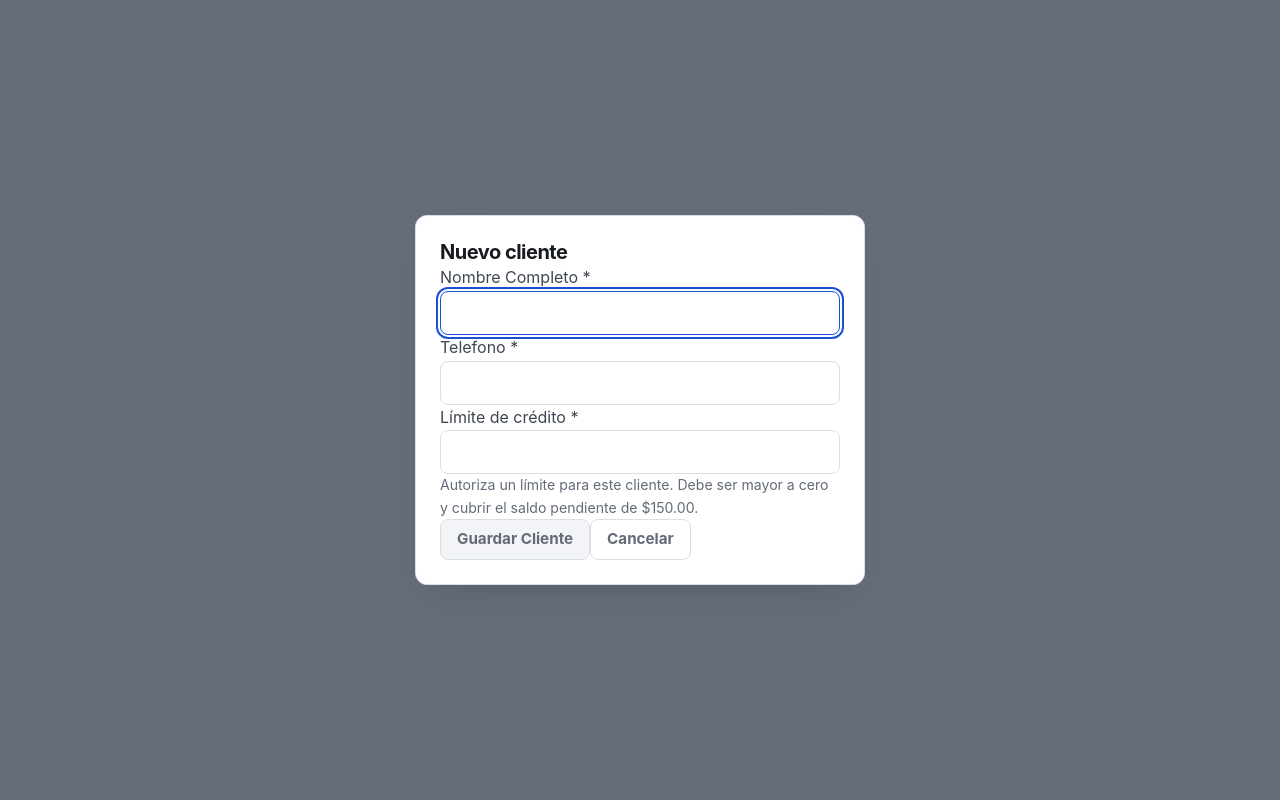
Test: QuickAddCustomerModal › requires an explicit positive credit limit that covers the remaining debt
This screenshot has width=1280, height=800.
Step 1. Type "Cliente QA 3C" into the field labelled "Nombre Completo *" → {"x": 640, "y": 313}, box [440, 291, 840, 335]
Step 2. Type "5551234567" into the field labelled "Telefono *" → {"x": 640, "y": 383}, box [440, 361, 840, 405]
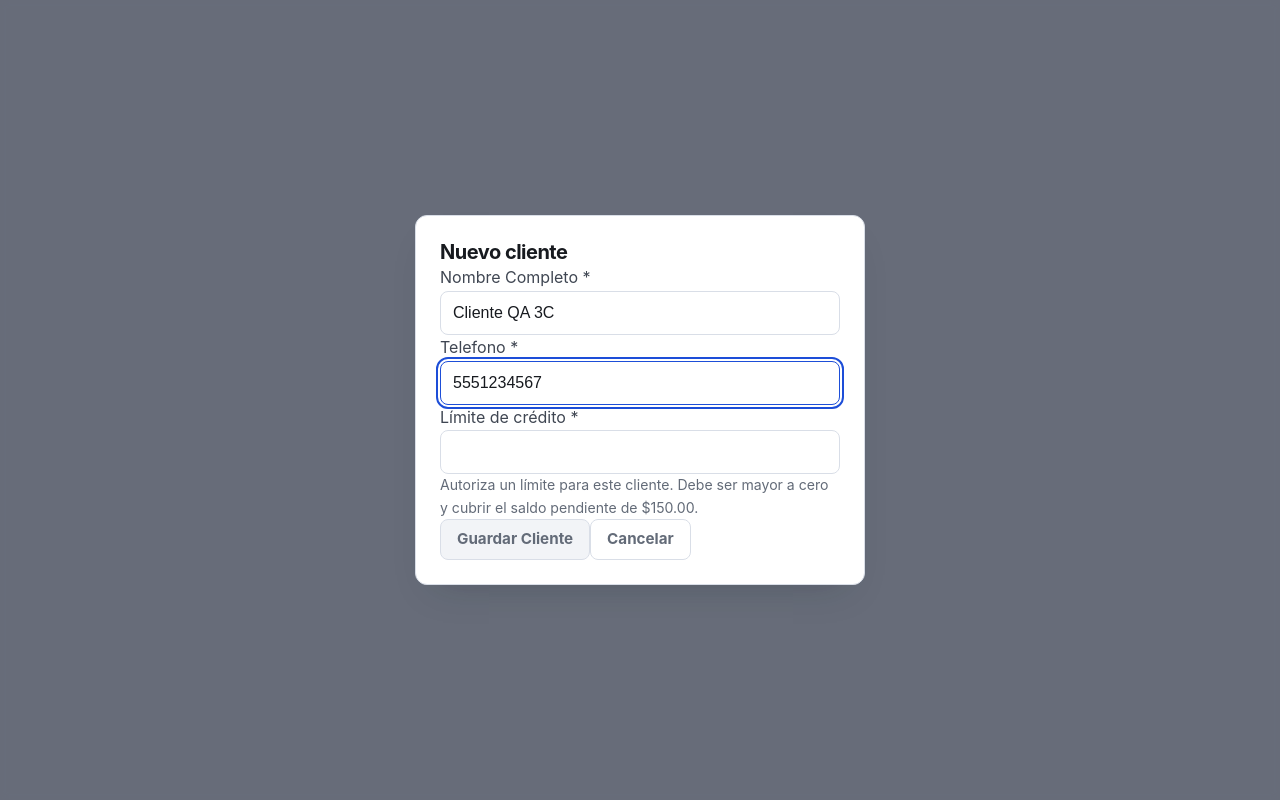
Expected: the button "Guardar Cliente" is disabled, [440, 519, 590, 560]
Step 3. Type "0" into the field labelled "Límite de crédito *" → {"x": 640, "y": 452}, box [440, 430, 840, 474]
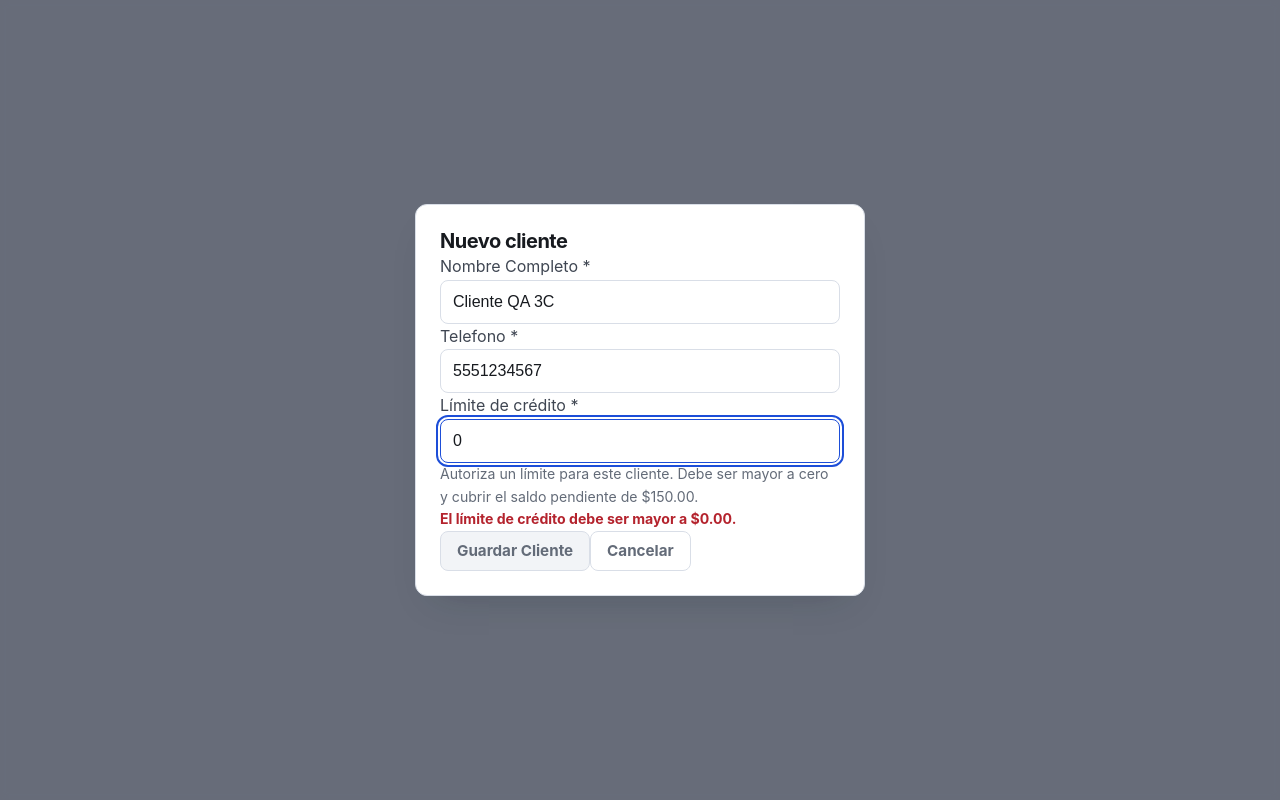
Expected: the button "Guardar Cliente" is disabled, [440, 530, 590, 571]
Result: the message shows "mayor a $0.00" at [440, 510, 736, 527]
Step 4. Clear the field labelled "Límite de crédito *" → {"x": 640, "y": 441}, box [440, 419, 840, 463]
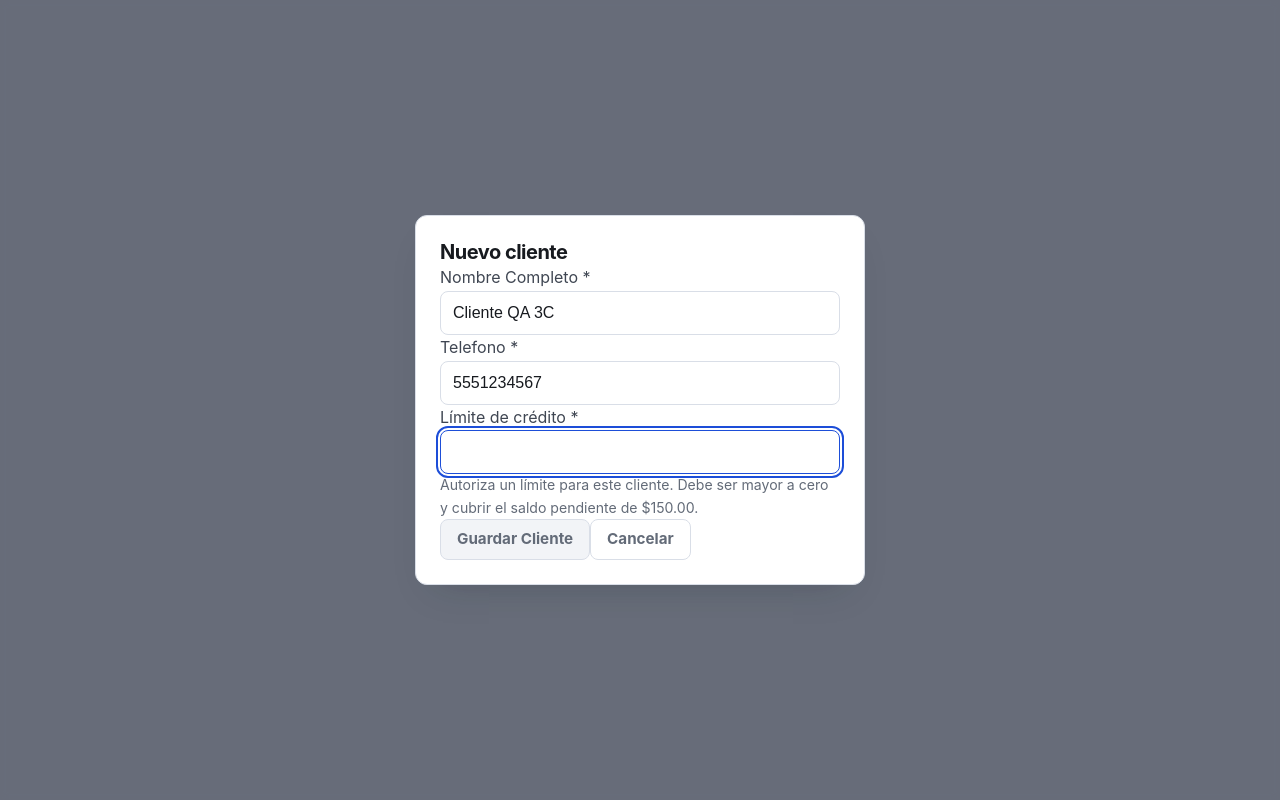
Step 5. Type "100" into the field labelled "Límite de crédito *" → {"x": 640, "y": 452}, box [440, 430, 840, 474]
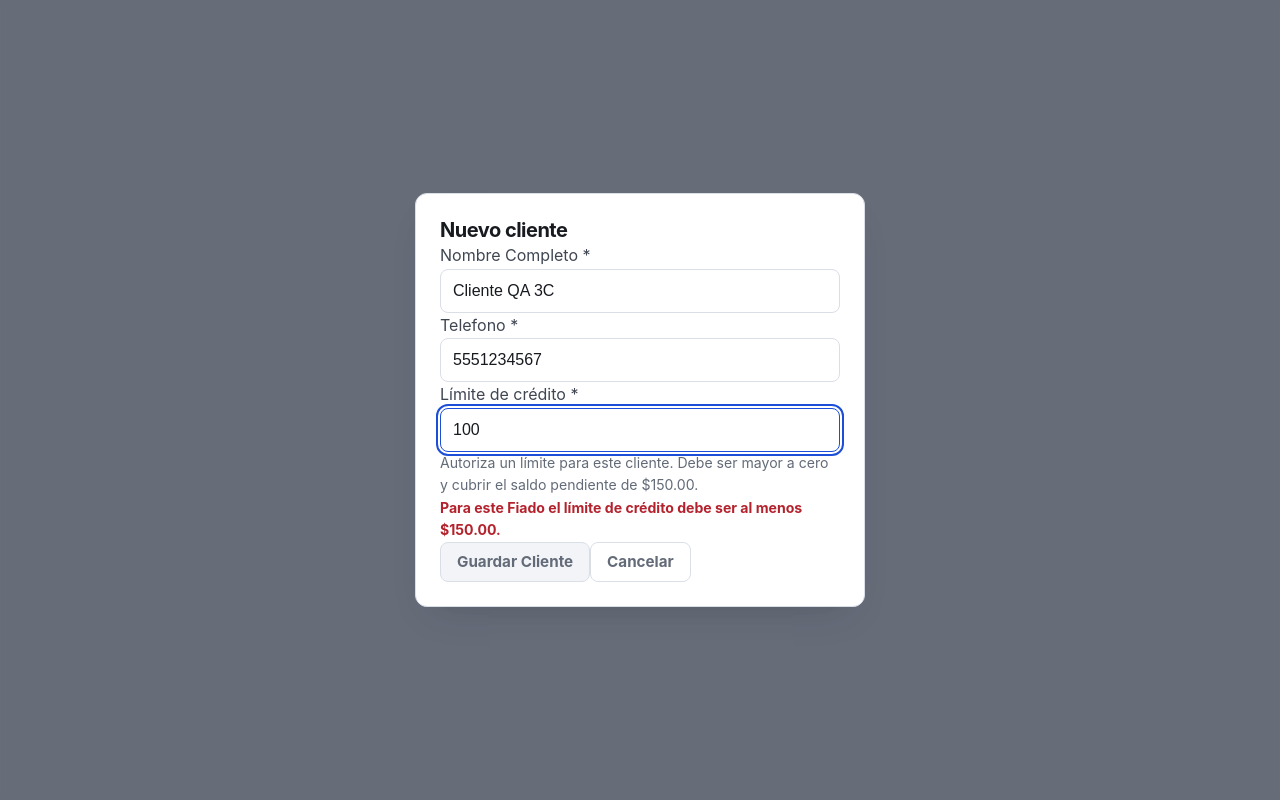
Expected: the button "Guardar Cliente" is disabled, [440, 542, 590, 582]
Result: the message reads "Para este Fiado el límite de crédito debe ser al menos $150.00." at [440, 499, 802, 538]
Step 6. Clear the field labelled "Límite de crédito *" → {"x": 640, "y": 430}, box [440, 408, 840, 452]
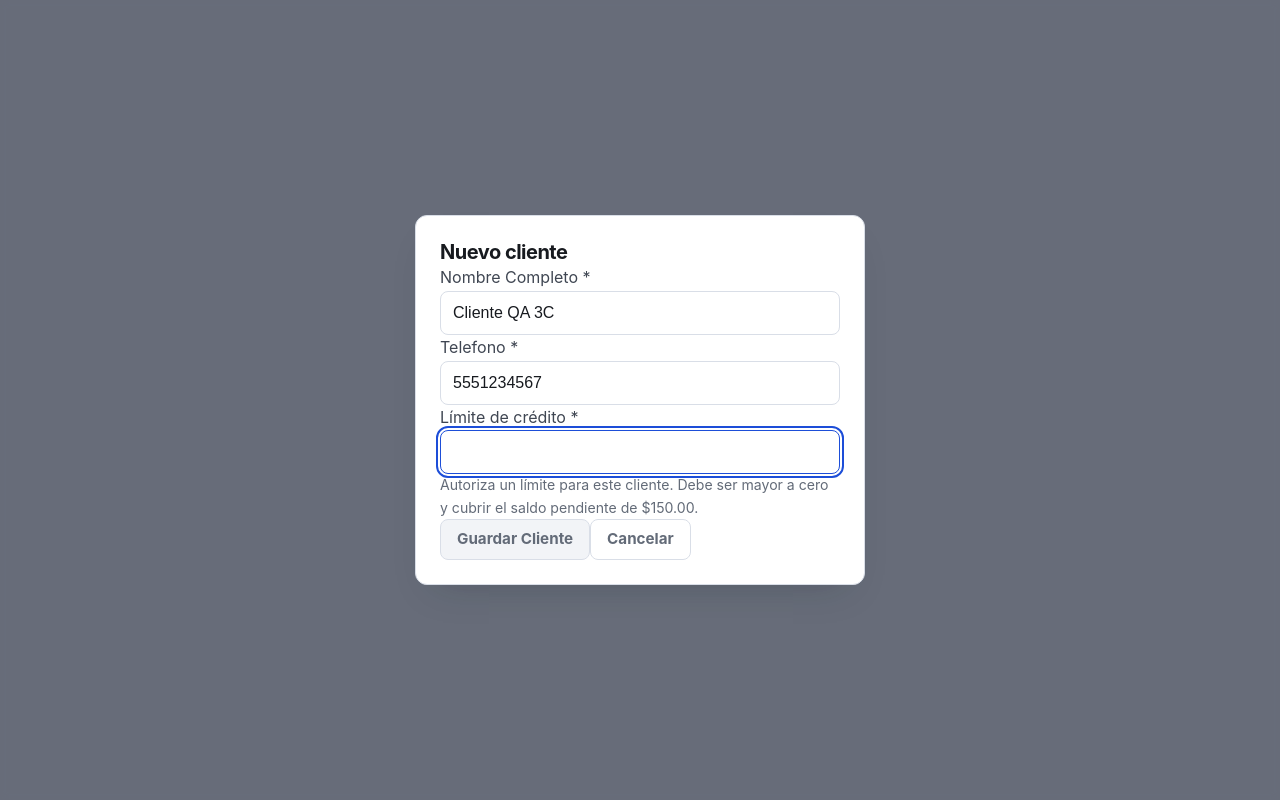
Step 7. Type "150" into the field labelled "Límite de crédito *" → {"x": 640, "y": 452}, box [440, 430, 840, 474]
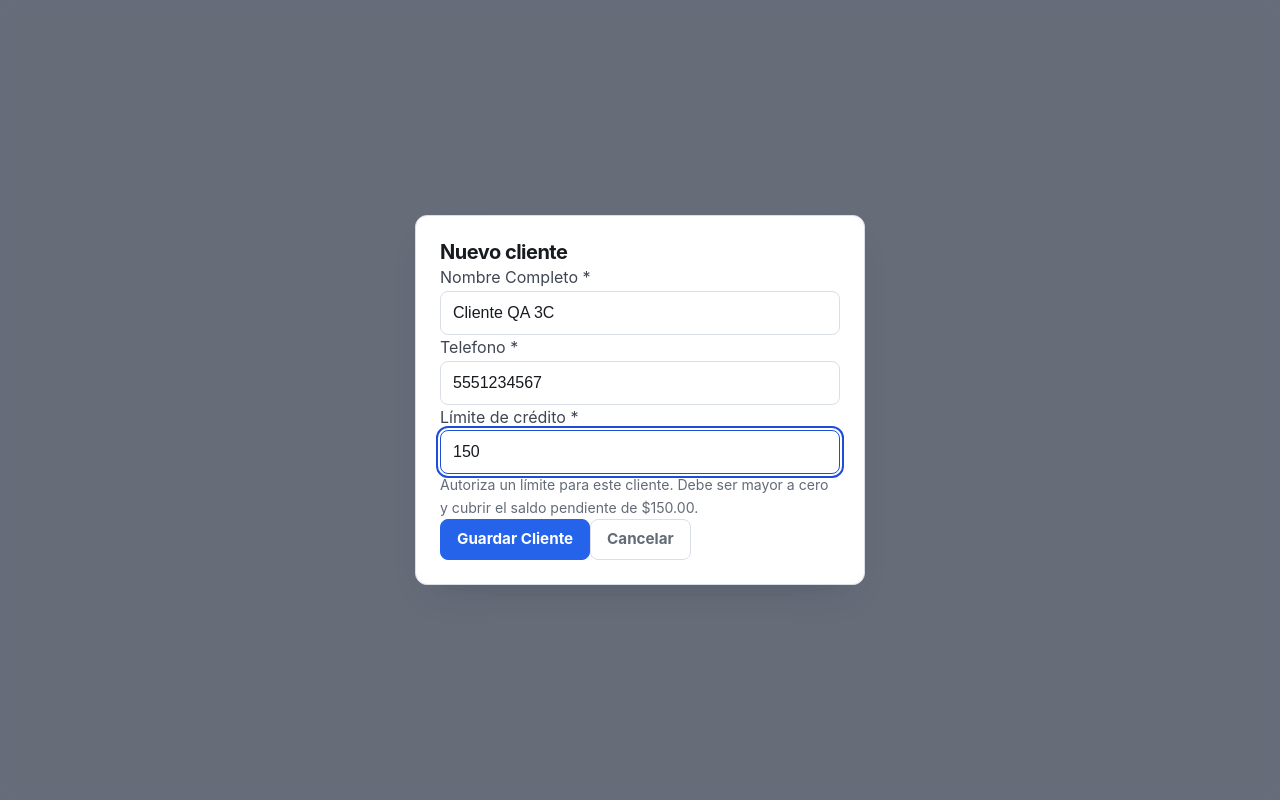
Result: the button "Guardar Cliente" is enabled at [440, 519, 590, 560]
